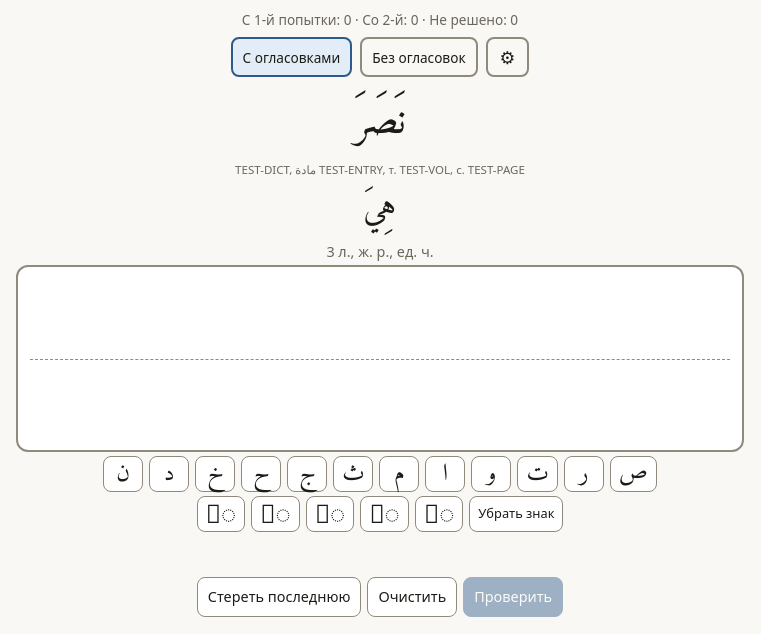
Test: App: ход тренировки › режим без огласовок › клик «Без огласовок» сразу в первом задании: палитра скрыта, هو и местоимение без знаков
Expected: the button with test id "^mark-" is shown, [196,496,245,532]
Click the button with test id "mode-plain": (419, 57) [360,37,478,77]
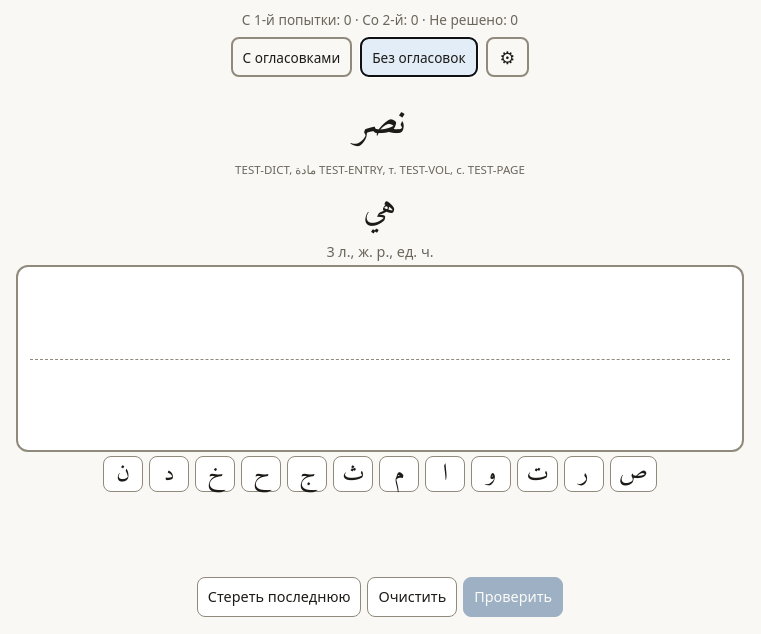
Now the text with test id "verb-form" reads "نصر", box [354,86,406,159]
